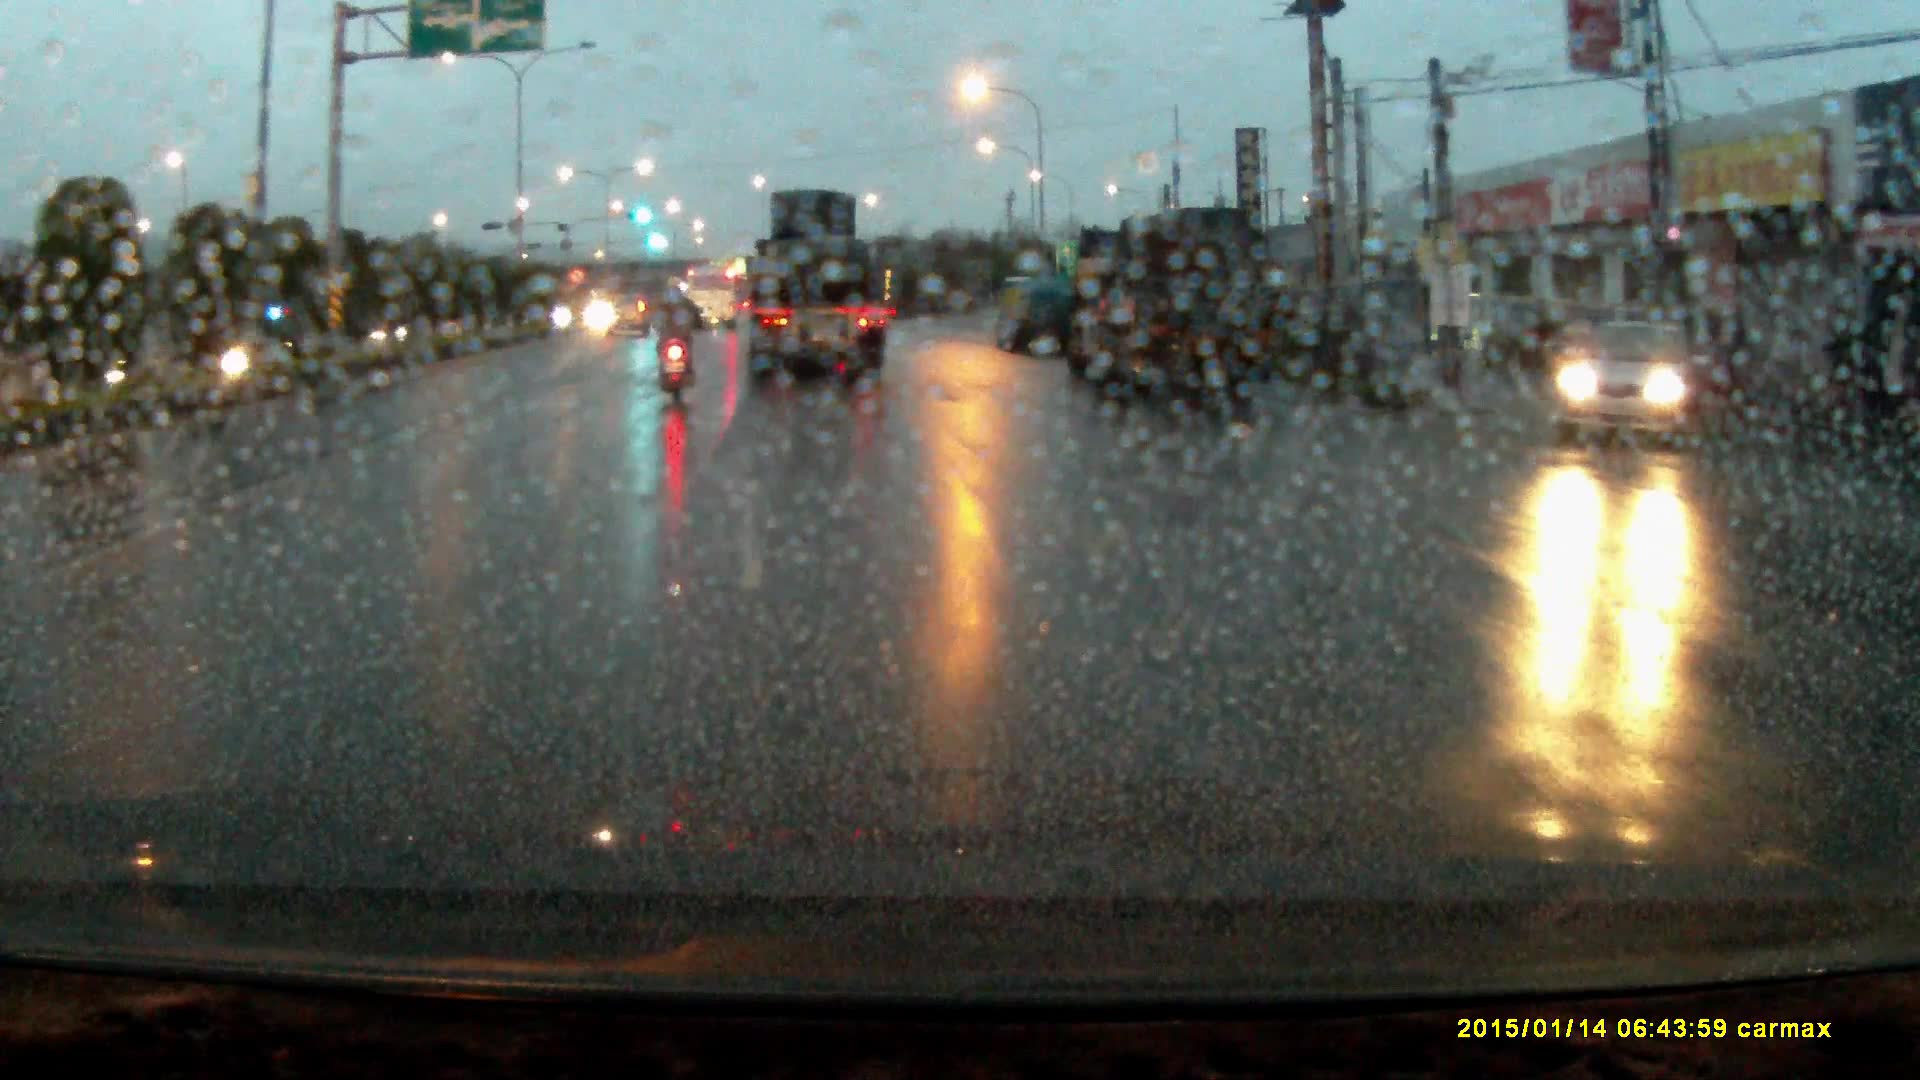rider: (650, 271, 707, 407)
vehicle: (1069, 199, 1285, 409), (748, 192, 887, 385), (1554, 315, 1734, 452), (998, 275, 1081, 356), (689, 266, 737, 329), (599, 288, 652, 337)
